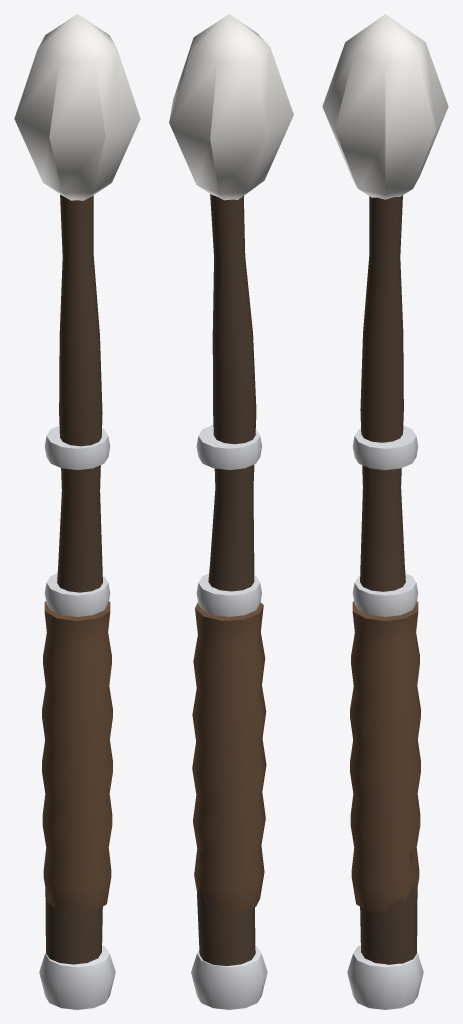
The model's file is tide_wand.glb.
3 views of the same model, side by side, from view 1: azimuth 90°, elevation 25°; view 2: azimuth 150°, elevation 25°; view 3: azimuth 270°, elevation 25° (orthographic).
Visible parts, largest first — view 1: tide_wand; view 2: tide_wand; view 3: tide_wand.
Part boxes in pixels (box(x1,y1,x2,y2)): tide_wand: box(14, 14, 140, 1009); tide_wand: box(169, 14, 293, 1009); tide_wand: box(322, 14, 448, 1009).
Size of the model in its own units: 0.0418 by 0.372 by 0.0429.
